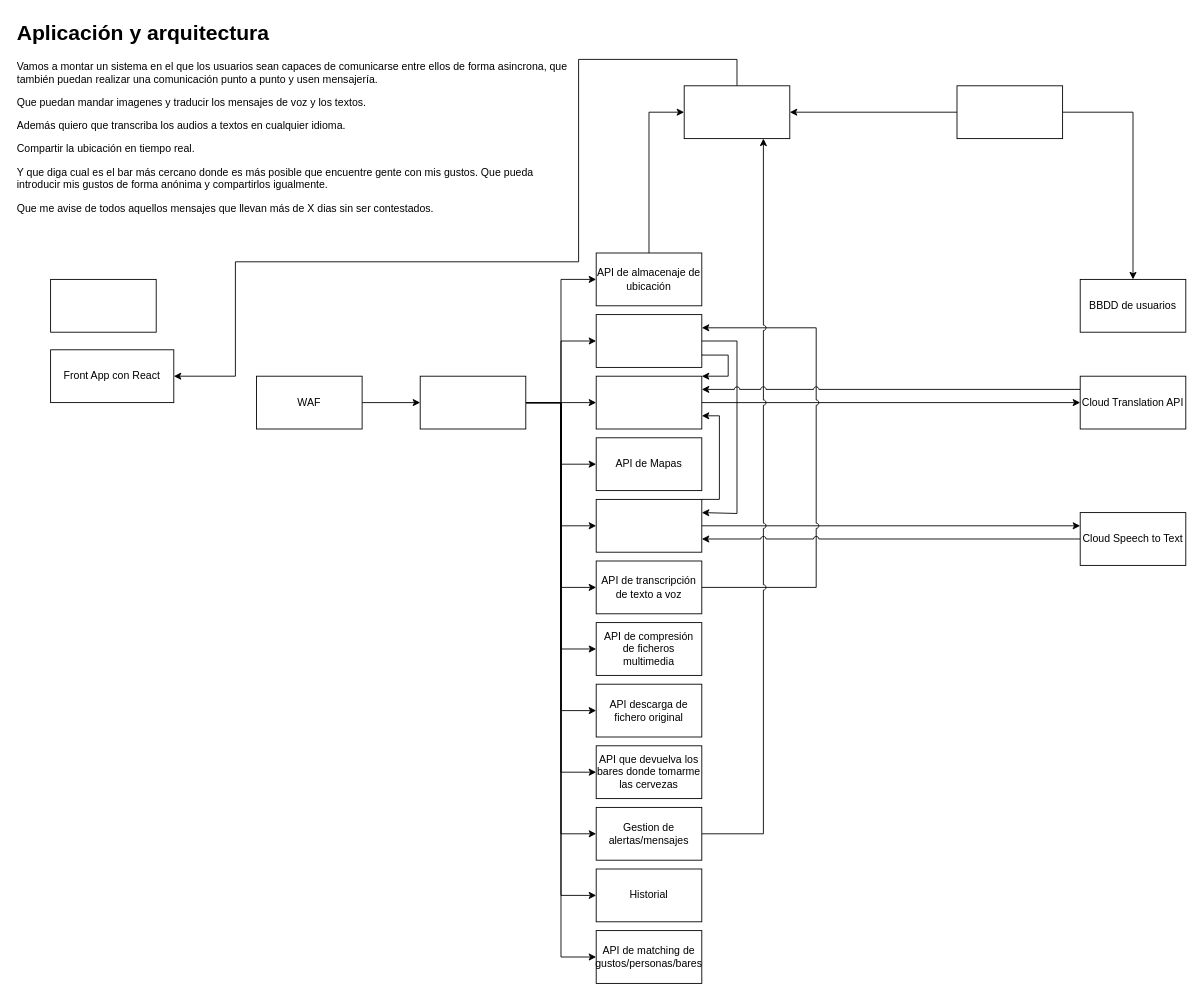
Image size: 1201x999. Some labels were removed from this diagram. Each missing label, with the box of its shape:
API de traducción de audio: (595, 314, 702, 367)
API de traducción de texto: (595, 375, 702, 429)
API de transcripción de voz a texto: (595, 499, 702, 552)
API Gateway: (419, 375, 526, 429)
Broker de mensajes: (683, 85, 790, 139)
funcion de gestion de ubicaciones: (956, 85, 1063, 139)
Servicio para alojar SPA: (50, 279, 156, 332)
